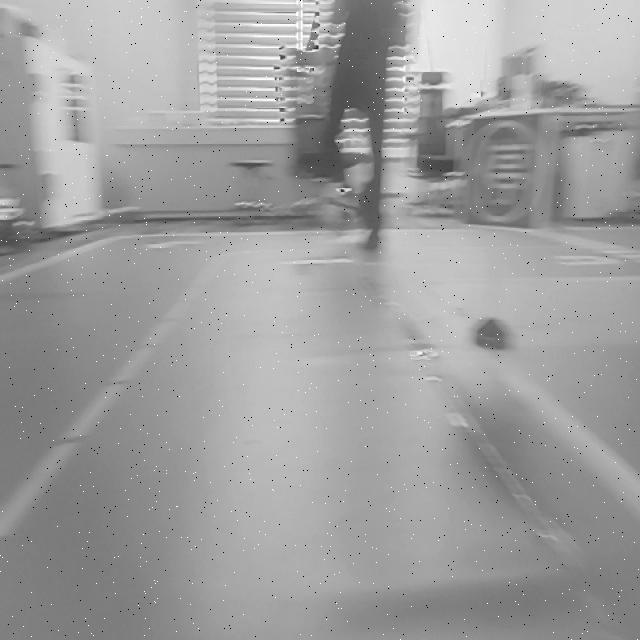left_lane: (0, 257, 216, 545)
right_lane: (418, 286, 640, 516)
